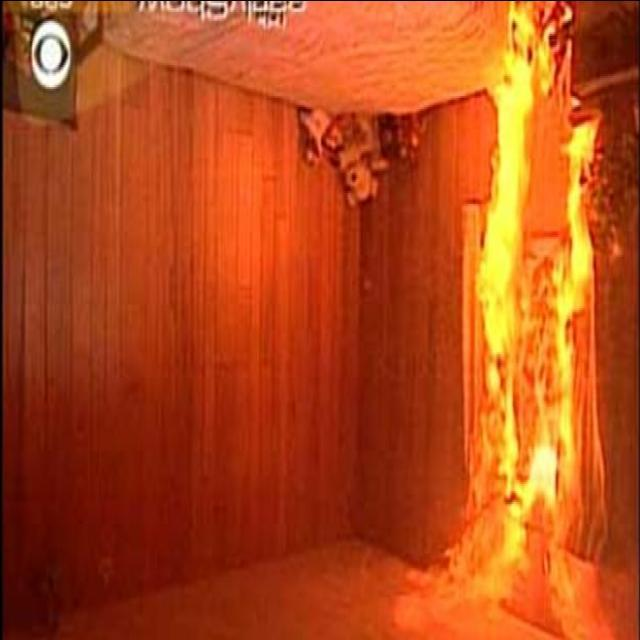Fire: (477, 1, 588, 604)
